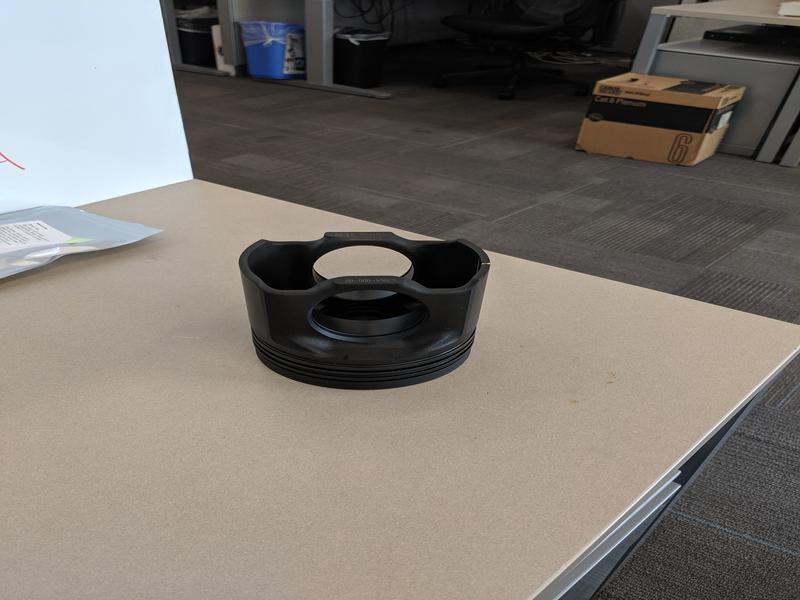piston: (229, 218, 496, 395)
